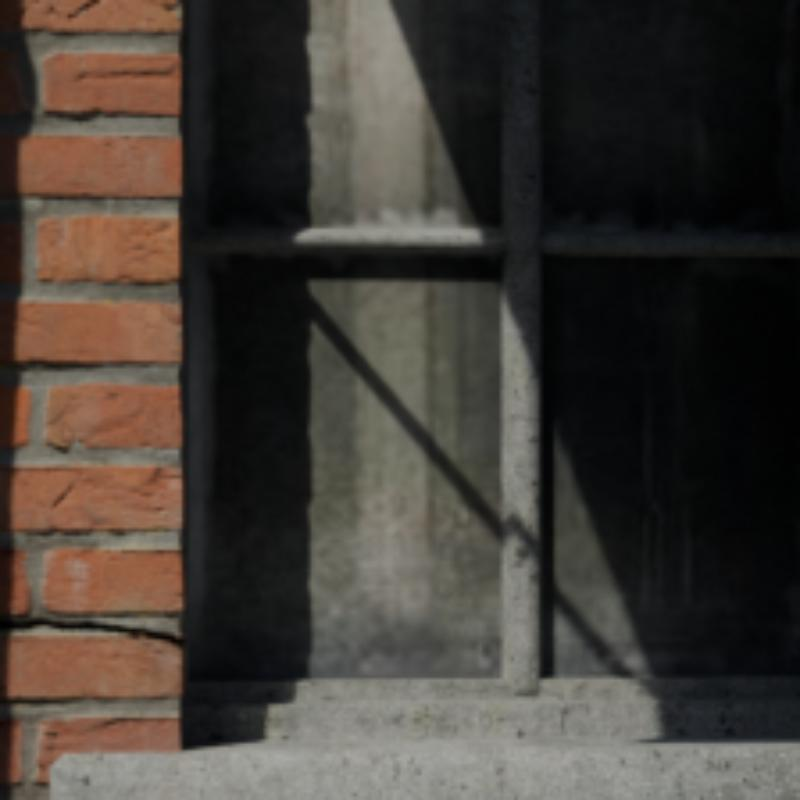crack: (7, 618, 182, 646)
